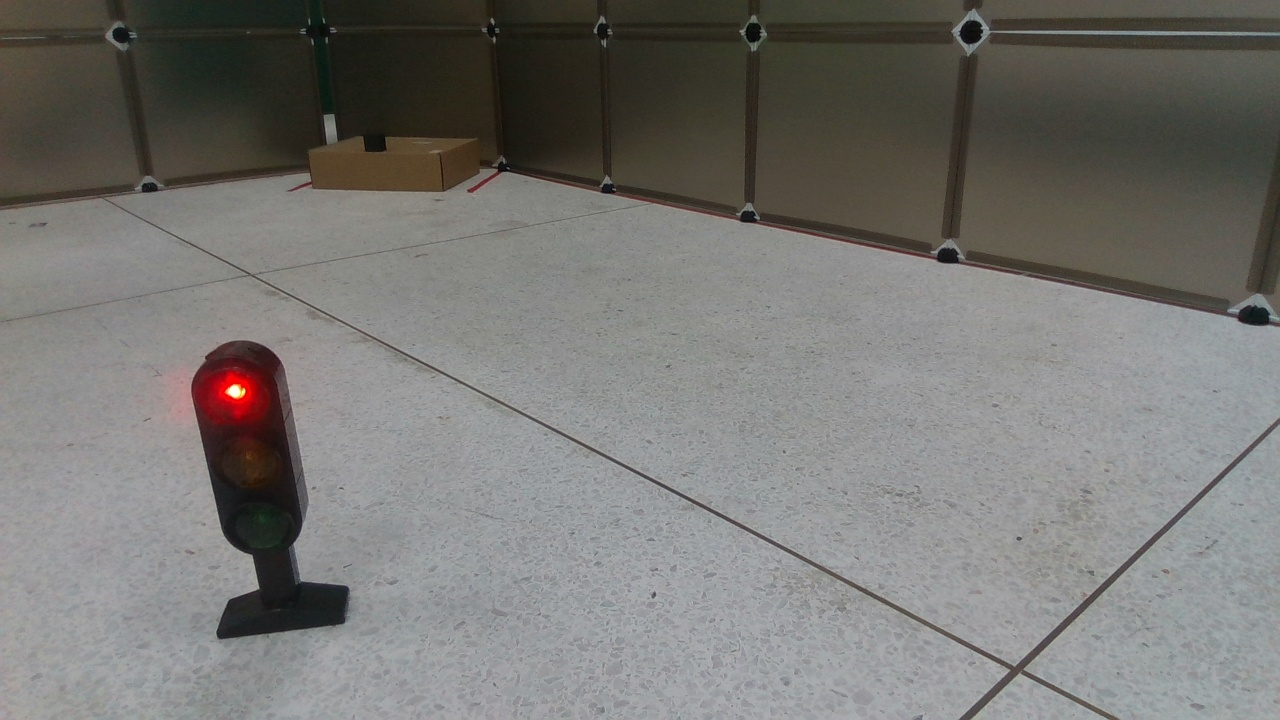Red traffic light: (179, 339, 363, 646)
